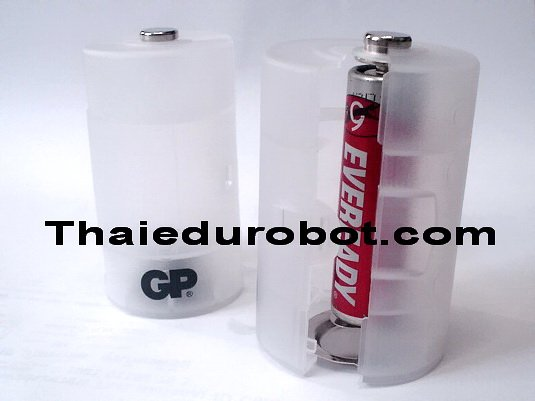Battery: (330, 63, 390, 330)
